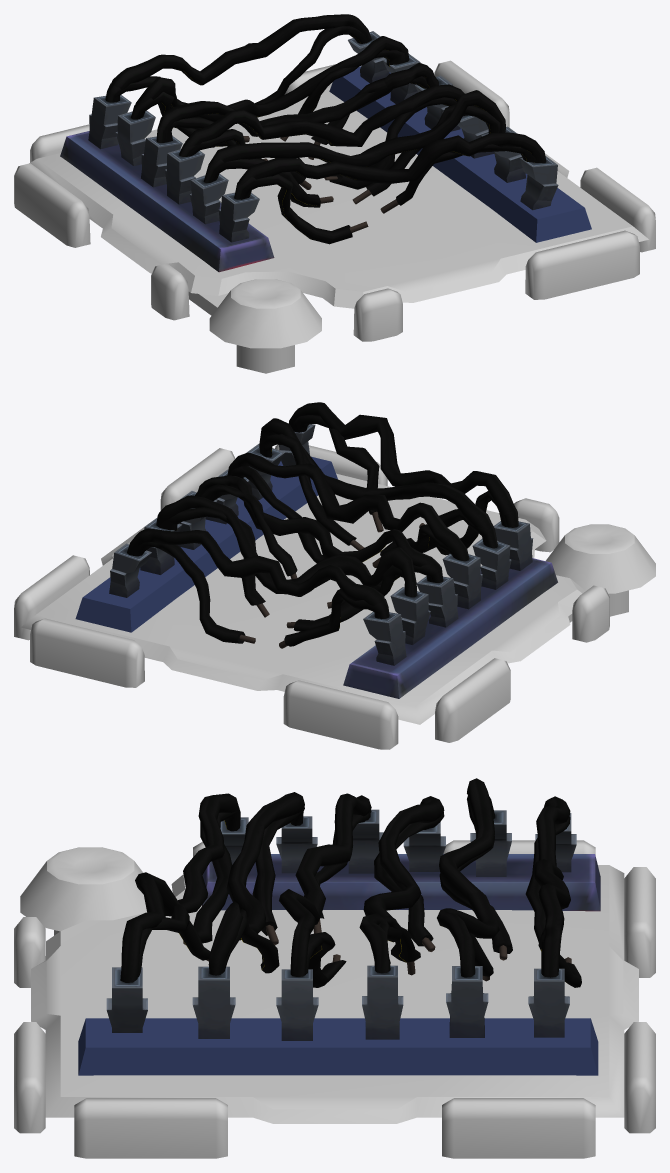
Rendered from WireSetComponent.fbx.
3 views of the same model, one above another, from view 1: azimuth 30°, elevation 25°; view 2: azimuth 150°, elevation 25°; view 3: azimuth 270°, elevation 25° (orthographic). The views are drawn at different scales.
Parts seen in each view (by area): view 1: Component_PuzzleBackground, parts, Wires_1_Black, Wires_2_Black, Wires_3_Black, Wires_6_Black, Wires_4_Black, Wires_5_Black, Wires_Snipped_1_R, Wires_Snipped_6_L, Wires_Snipped_2_R, Wires_Snipped_2_L (+7 smaller); view 2: Component_PuzzleBackground, parts, Wires_3_Black, Wires_6_Black, Wires_1_Black, Wires_5_Black, Wires_4_Black, Wires_2_Black, Wires_Snipped_6_L, Wires_Snipped_2_L, Wires_Snipped_1_L, Wires_Snipped_4_L (+7 smaller); view 3: Component_PuzzleBackground, parts, Wires_1_Black, Wires_5_Black, Wires_3_Black, Wires_2_Black, Wires_4_Black, Wires_6_Black, Wires_Snipped_2_R, Wires_Snipped_1_R, Wires_Snipped_4_R, Wires_Snipped_1_L (+7 smaller).
Part boxes in pixels (x1,y1,x2,y2): Component_PuzzleBackground: [14, 60, 655, 373]; parts: [60, 31, 591, 272]; Wires_1_Black: [238, 132, 546, 198]; Wires_2_Black: [210, 90, 505, 181]; Wires_3_Black: [184, 84, 467, 153]; Wires_6_Black: [111, 14, 371, 102]; Wires_4_Black: [159, 63, 438, 142]; Wires_5_Black: [135, 36, 409, 121]; Wires_Snipped_1_R: [234, 174, 368, 244]; Wires_Snipped_6_L: [255, 26, 367, 104]; Wires_Snipped_2_R: [203, 158, 333, 207]; Wires_Snipped_2_L: [352, 104, 500, 204]; Component_PuzzleBackground: [14, 444, 655, 749]; parts: [75, 424, 557, 698]; Wires_3_Black: [227, 452, 465, 559]; Wires_6_Black: [127, 528, 384, 618]; Wires_1_Black: [288, 402, 515, 526]; Wires_5_Black: [156, 495, 414, 596]; Wires_4_Black: [195, 475, 440, 581]; Wires_2_Black: [259, 418, 493, 546]; Wires_Snipped_6_L: [131, 542, 255, 643]; Wires_Snipped_2_L: [261, 434, 364, 550]; Wires_Snipped_1_L: [292, 415, 383, 532]; Wires_Snipped_4_L: [201, 484, 297, 579]; Component_PuzzleBackground: [14, 840, 655, 1158]; parts: [78, 809, 600, 1075]; Wires_1_Black: [120, 793, 240, 982]; Wires_5_Black: [437, 778, 499, 977]; Wires_3_Black: [279, 793, 371, 976]; Wires_2_Black: [208, 792, 304, 975]; Wires_4_Black: [359, 796, 444, 973]; Wires_6_Black: [533, 796, 570, 977]; Wires_Snipped_2_R: [252, 807, 304, 945]; Wires_Snipped_1_R: [183, 811, 240, 944]; Wires_Snipped_4_R: [374, 812, 444, 951]; Wires_Snipped_1_L: [138, 904, 210, 977].
Bounding box in the file's own units: 0.2 × 0.0699 × 0.2.
